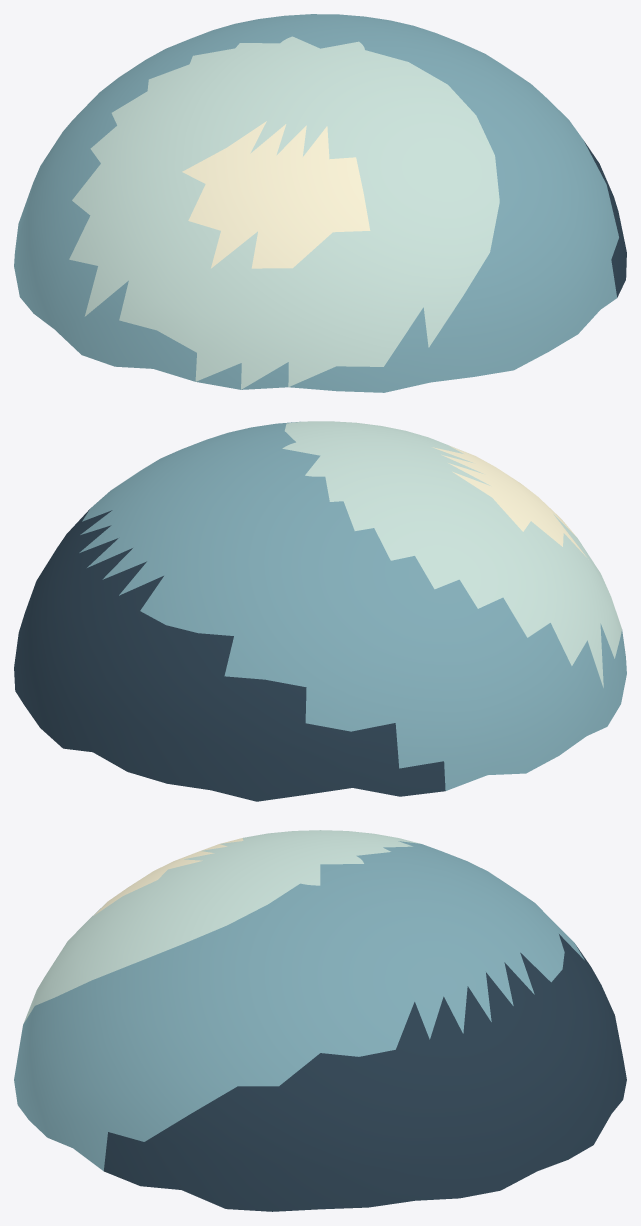
The model's file is shockwave_dome.glb.
3 views of the same model, one above another, from view 1: azimuth 30°, elevation 25°; view 2: azimuth 150°, elevation 25°; view 3: azimuth 270°, elevation 25° (orthographic).
Visible parts, largest first — view 1: shockwave_dome; view 2: shockwave_dome; view 3: shockwave_dome.
Boxes of the visible parts, left/top/right/bottom form: shockwave_dome: left=14, top=14, right=626, bottom=392; shockwave_dome: left=14, top=421, right=626, bottom=801; shockwave_dome: left=14, top=830, right=626, bottom=1211.
Size of the model in its own units: 2 by 0.8066 by 2.
